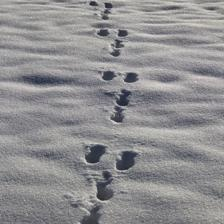rabbit: (100, 67, 141, 125), (95, 26, 131, 59)
